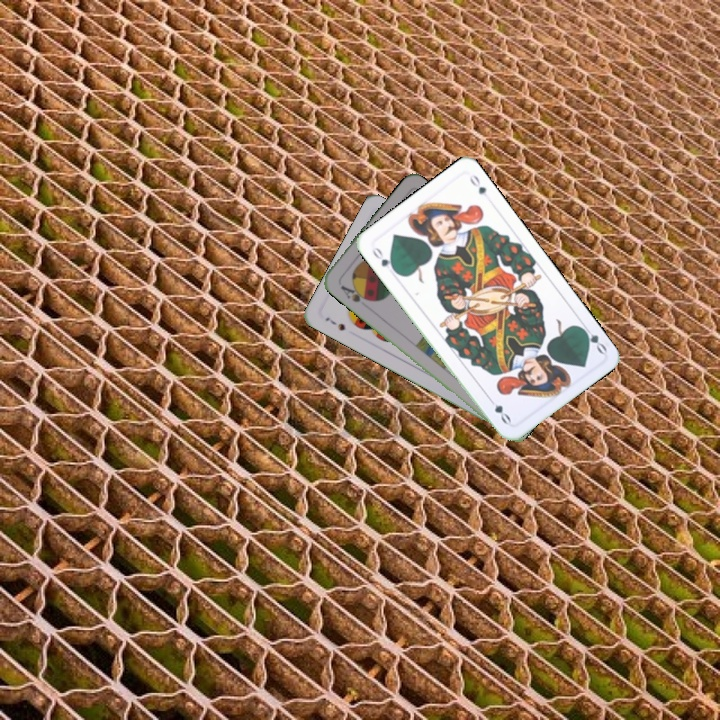GO: (576, 320, 610, 356), (368, 243, 399, 275)
S7: (321, 313, 348, 334)
SA: (335, 278, 373, 305)
